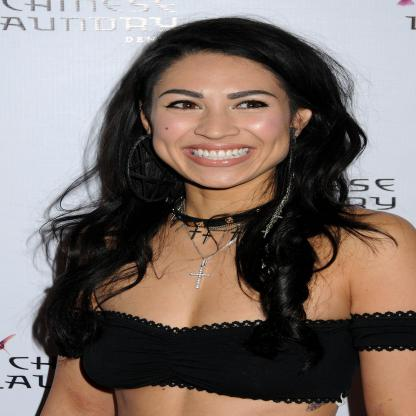long-hair: (74, 190, 372, 239)
